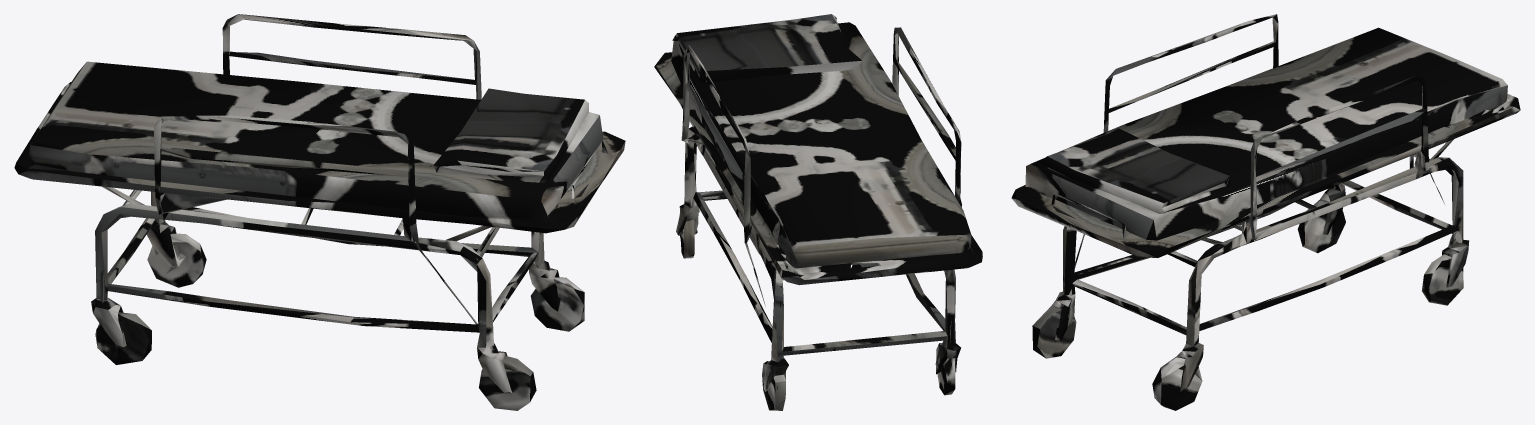
3 views of the same model, side by side, from view 1: azimuth 30°, elevation 25°; view 2: azimuth 150°, elevation 25°; view 3: azimuth 270°, elevation 25° (orthographic). The views are drawn at different scales.
Visible parts, largest first — view 1: repaired; view 2: repaired; view 3: repaired.
Part boxes in pixels (box(x1,y1,x2,y2)): repaired: box(14, 14, 625, 410); repaired: box(654, 14, 982, 410); repaired: box(1011, 14, 1520, 410).
Size of the model in its own units: 0.9978 by 0.5515 by 0.9997.
